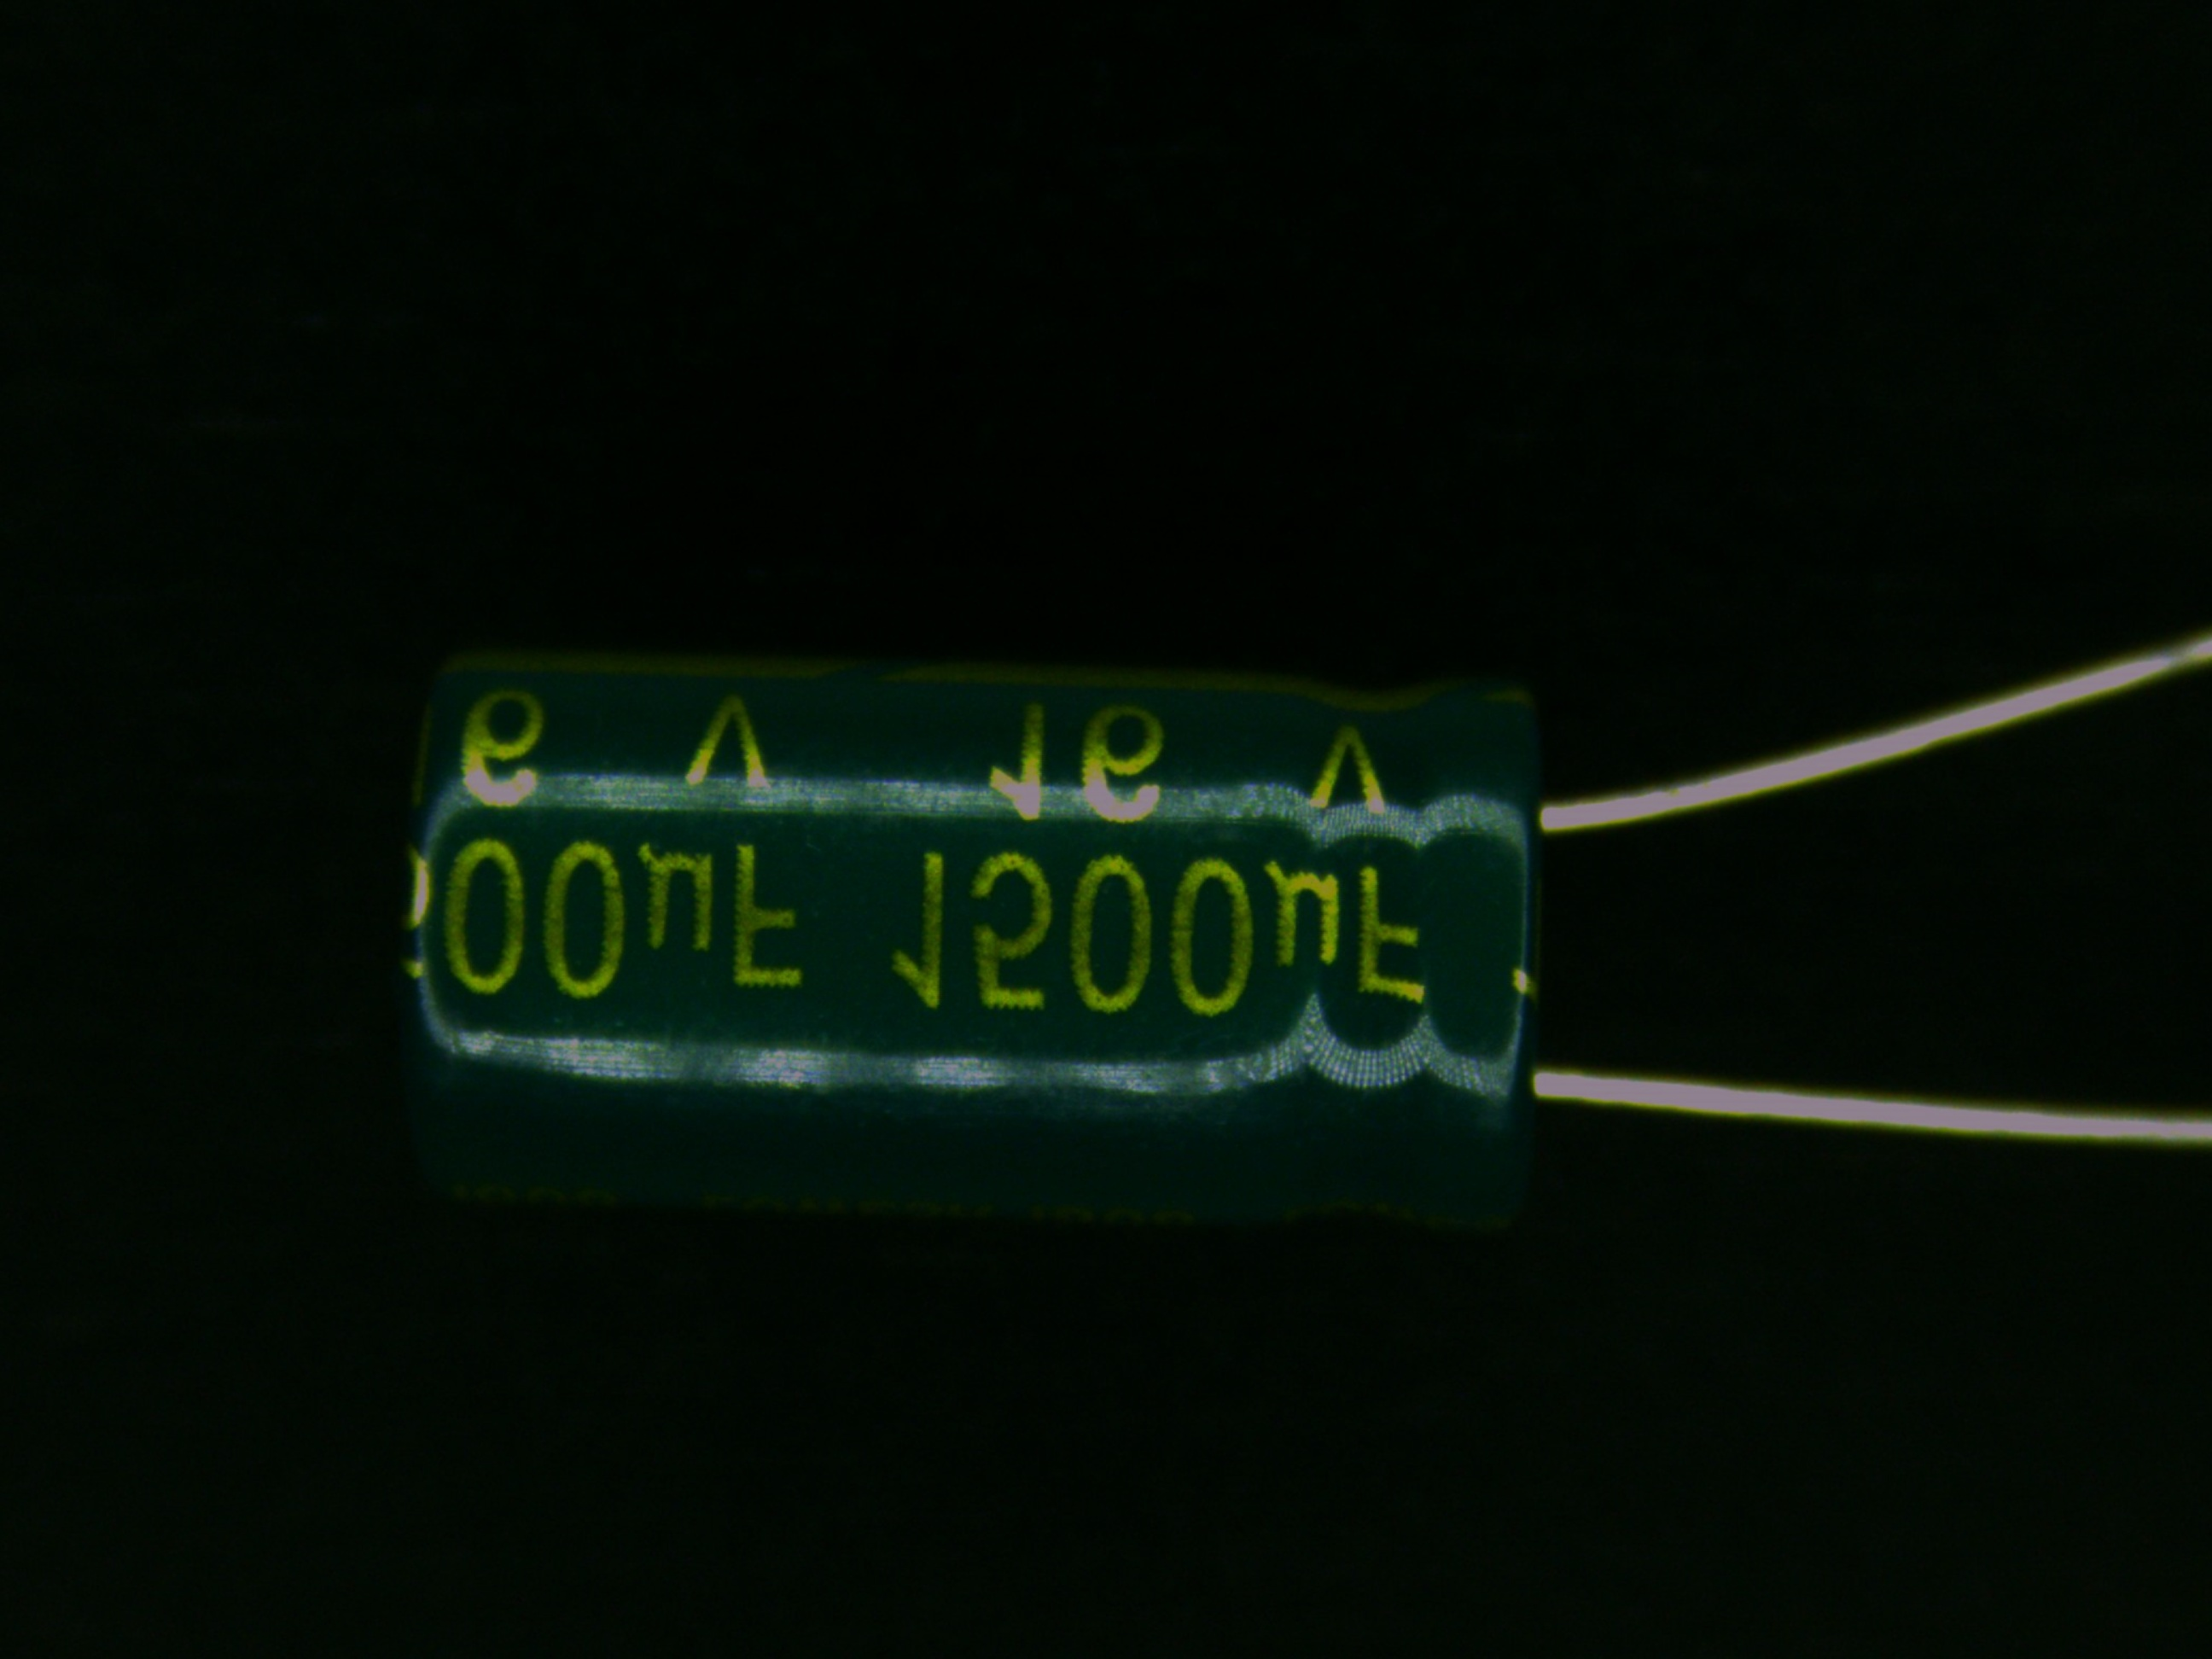c1: (392, 657, 1789, 1229)
